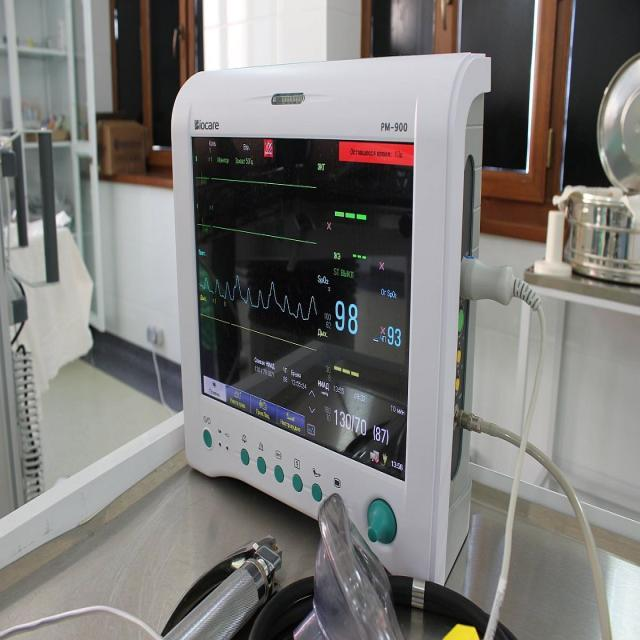Monitor: (3, 42, 559, 640)
